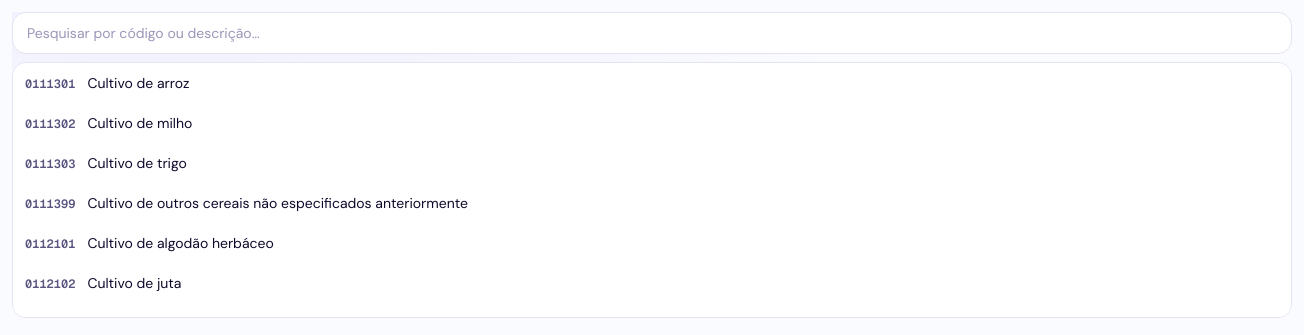
Test: ClusterCnaeEditor › filters by user input
The width and height of the screenshot is (1304, 335).
Type "0600001" into the search field named "Pesquisar CNAE" at (652, 33), box [12,12,1292,54]
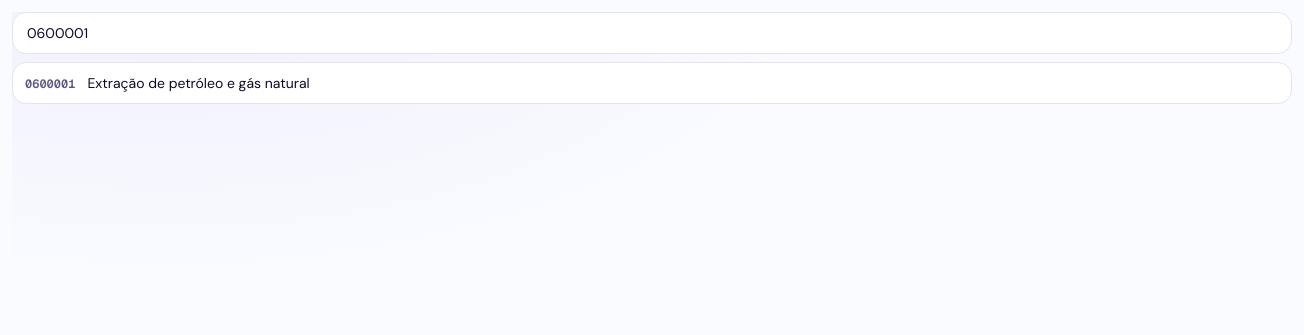
Check: the text "0600001" is shown, box [25,76,75,92]
